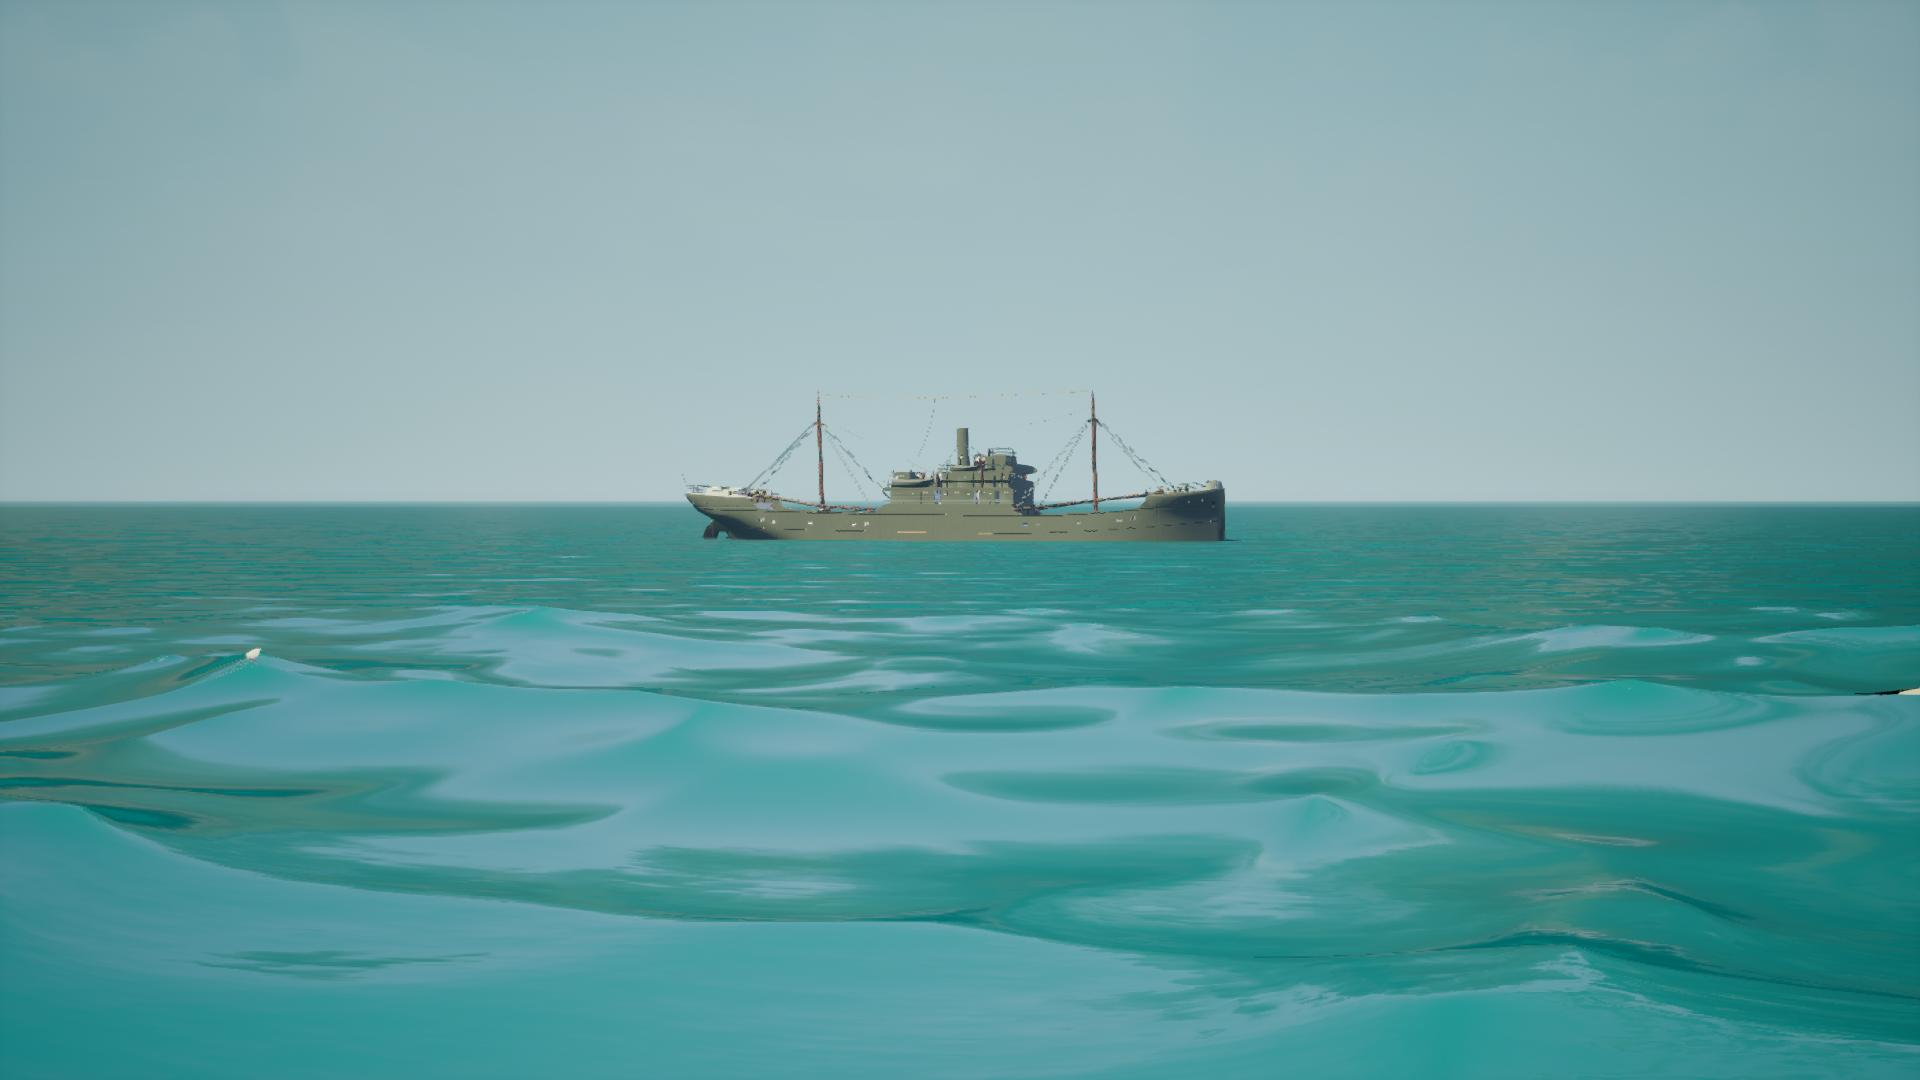Fishing Boat: (683, 390, 1226, 545)
